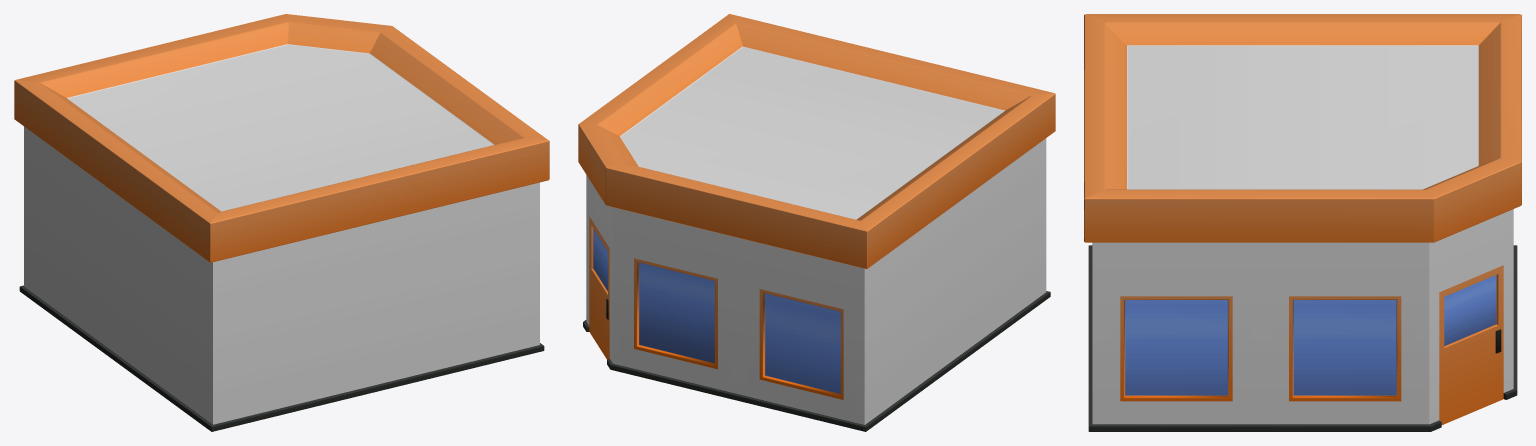
Rendered from SM_building02.fbx.
The picture shows the model from 3 angles, left to right: view 1: azimuth 30°, elevation 25°; view 2: azimuth 150°, elevation 25°; view 3: azimuth 270°, elevation 25°; orthographic projection. The views are drawn at different scales.
Parts seen in each view (by area): view 1: SM_building02; view 2: SM_building02; view 3: SM_building02.
Boxes of the visible parts, left/top/right/bottom form: SM_building02: left=14, top=14, right=549, bottom=431; SM_building02: left=578, top=14, right=1055, bottom=431; SM_building02: left=1084, top=14, right=1521, bottom=431.
Bounding box in the file's own units: 623 × 370 × 623.
